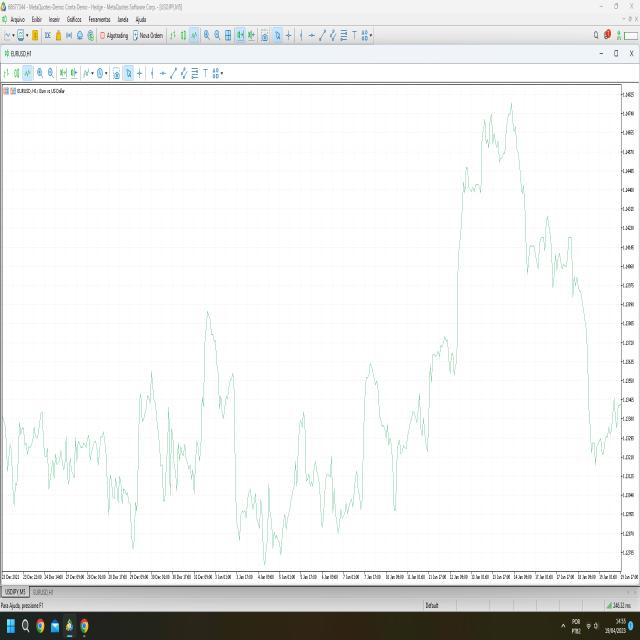bandeira_alta: (453, 164, 483, 374)
bandeira_baixa: (509, 136, 588, 318)
topo_duplo: (187, 292, 244, 461)
